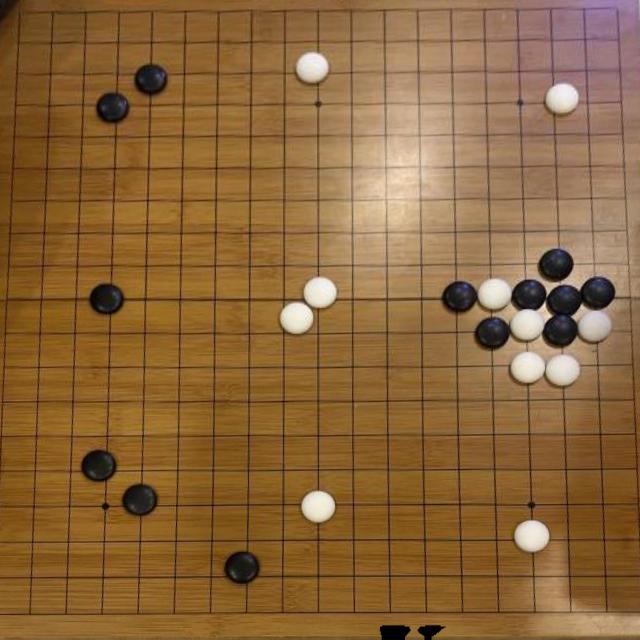blackstone: (538, 248, 574, 281), (580, 277, 616, 310), (122, 483, 157, 516), (82, 449, 116, 482), (225, 551, 259, 584), (547, 284, 582, 316), (443, 280, 477, 312), (476, 316, 510, 348), (512, 279, 546, 311), (544, 314, 578, 346), (90, 283, 124, 314), (96, 92, 129, 123), (135, 64, 168, 95)
whitestone: (514, 519, 550, 553), (510, 351, 546, 385), (303, 276, 338, 310), (510, 308, 545, 342), (545, 354, 581, 387), (577, 310, 612, 343), (300, 490, 336, 522), (280, 302, 314, 335), (477, 278, 512, 310), (296, 51, 329, 84), (545, 82, 579, 114)
